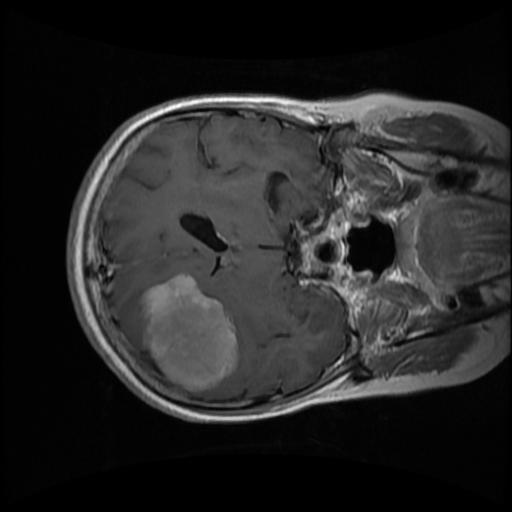meningioma: (140, 273, 239, 392)
